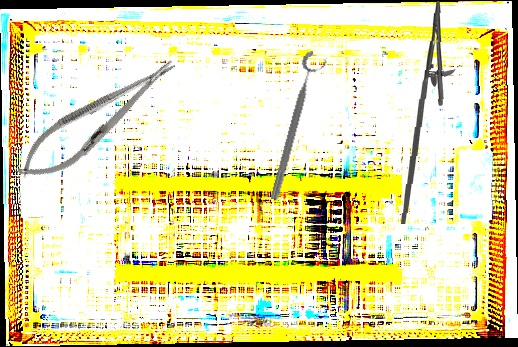Fixation Ring: (265, 49, 330, 204)
Needle Holder: (7, 45, 188, 194), (400, 0, 458, 226)
